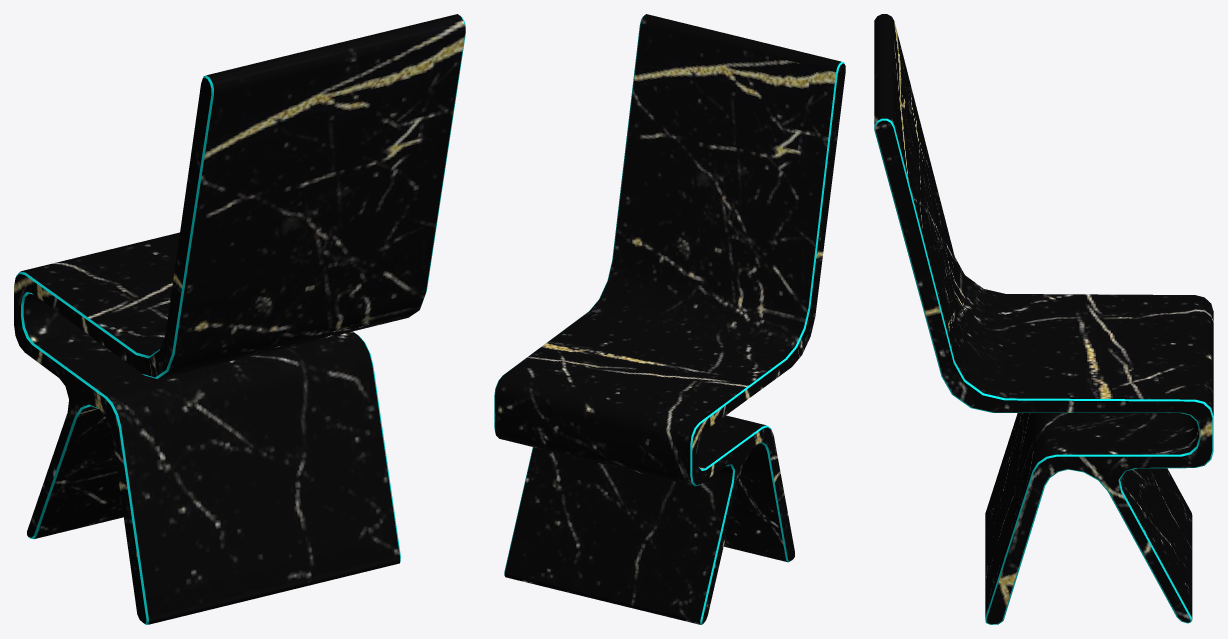
File: FUR0310004.fbx
3 views of the same model, side by side, from view 1: azimuth 30°, elevation 25°; view 2: azimuth 150°, elevation 25°; view 3: azimuth 270°, elevation 25° (orthographic). The views are drawn at different scales.
Parts seen in each view (by area): view 1: smFUR0310004; view 2: smFUR0310004; view 3: smFUR0310004.
Boxes of the visible parts, x1,y1,x2,y2 form: smFUR0310004: (14,14,465,624); smFUR0310004: (494,14,845,624); smFUR0310004: (874,14,1213,624).
Size of the model in its own units: 57.61 by 128 by 78.03.
Materials: 1 (1 with a texture image).
